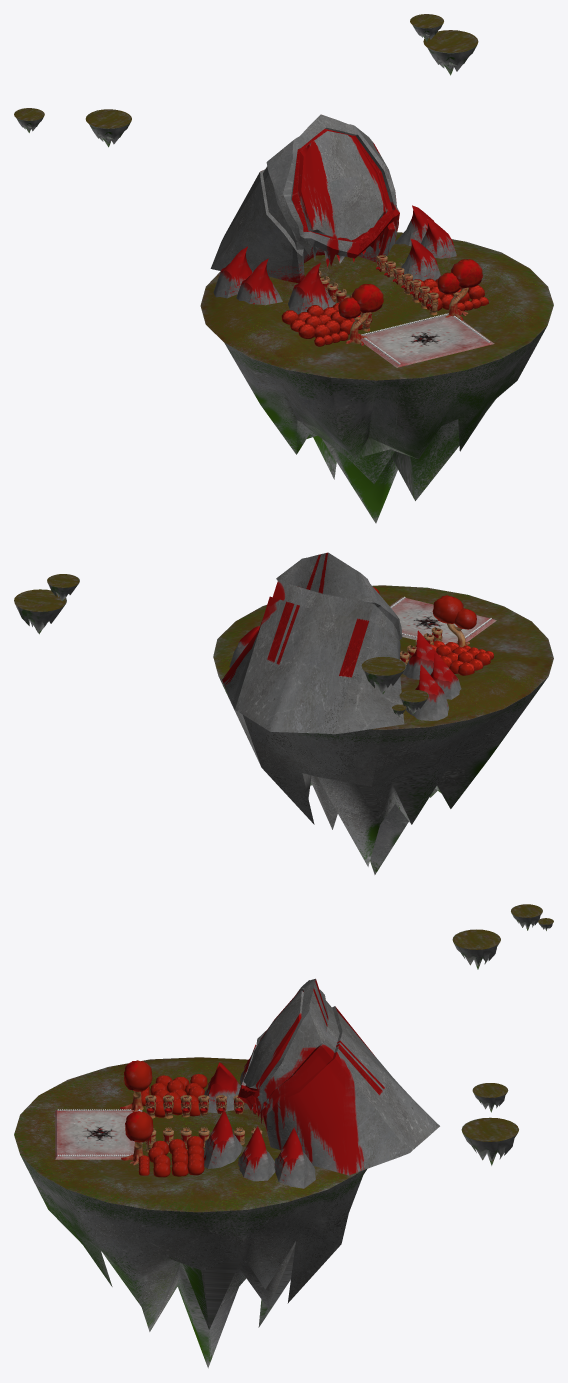
Rendered from Floatingisland.fbx.
The picture shows the model from 3 angles, top to bottom: view 1: azimuth 30°, elevation 25°; view 2: azimuth 150°, elevation 25°; view 3: azimuth 270°, elevation 25°; orthographic projection. The views are drawn at different scales.
Visible parts, largest first — view 1: pCube81; view 2: pCube81; view 3: pCube81.
Part boxes in pixels (<box>): pCube81: <box>14,14,553,523</box>; pCube81: <box>14,552,553,874</box>; pCube81: <box>14,904,553,1368</box>.
Size of the model in its own units: 267 by 215 by 272.
